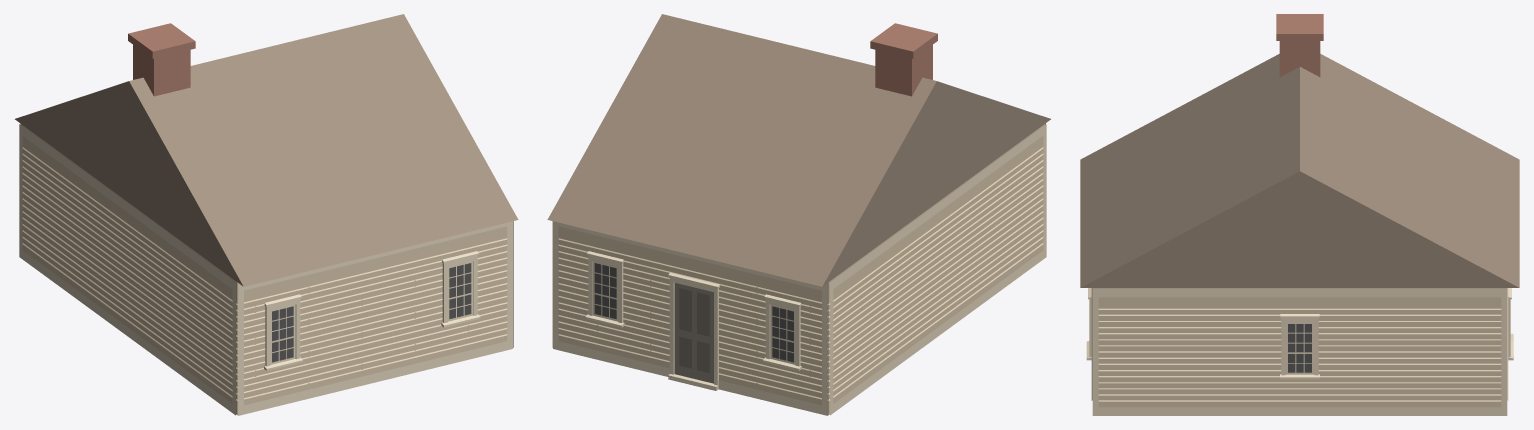
File: recon_1835_south_d4_019__inferred_1835.glb
3 renders of one model, left to right at view 1: azimuth 30°, elevation 25°; view 2: azimuth 150°, elevation 25°; view 3: azimuth 270°, elevation 25°, orthographic. The views are drawn at different scales.
Visible parts, largest first — view 1: recon_1835_south_d4_019__inferred_1835; view 2: recon_1835_south_d4_019__inferred_1835; view 3: recon_1835_south_d4_019__inferred_1835.
Part boxes in pixels (x1,y1,x2,y2): recon_1835_south_d4_019__inferred_1835: (15,14,518,415); recon_1835_south_d4_019__inferred_1835: (547,14,1050,415); recon_1835_south_d4_019__inferred_1835: (1080,14,1519,415).
Size of the model in its own units: 6.45 by 6.36 by 9.1.
